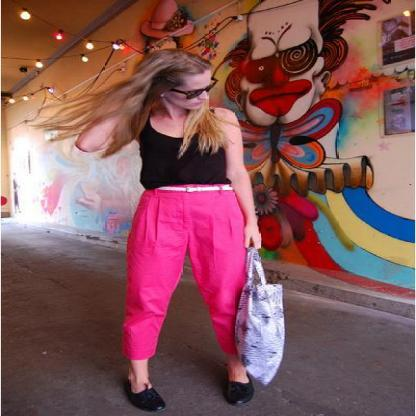bag: (235, 242, 284, 384)
pants: (112, 184, 261, 360)
shirt: (137, 125, 231, 190)
shoe: (125, 379, 253, 410)
sunglass: (175, 75, 212, 98)
